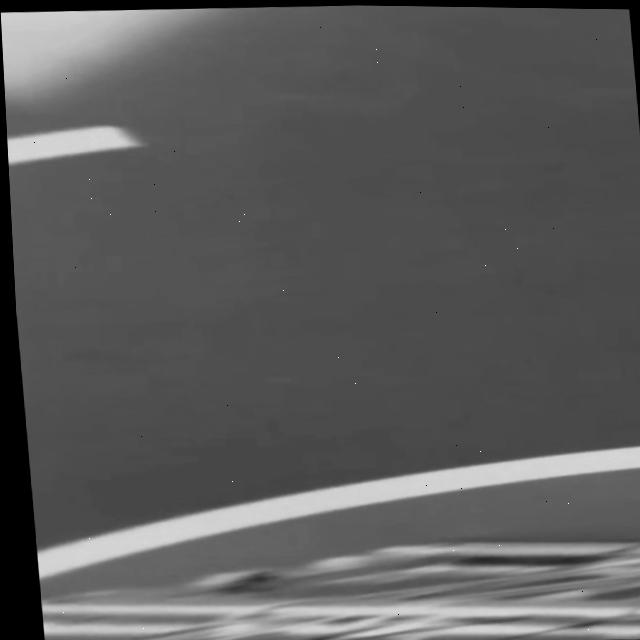center: (7, 125, 142, 164)
left: (36, 446, 640, 578)
